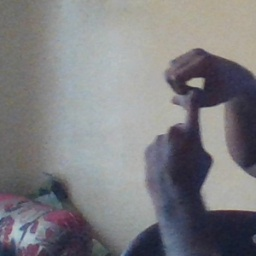Q: (142, 45, 232, 195)
